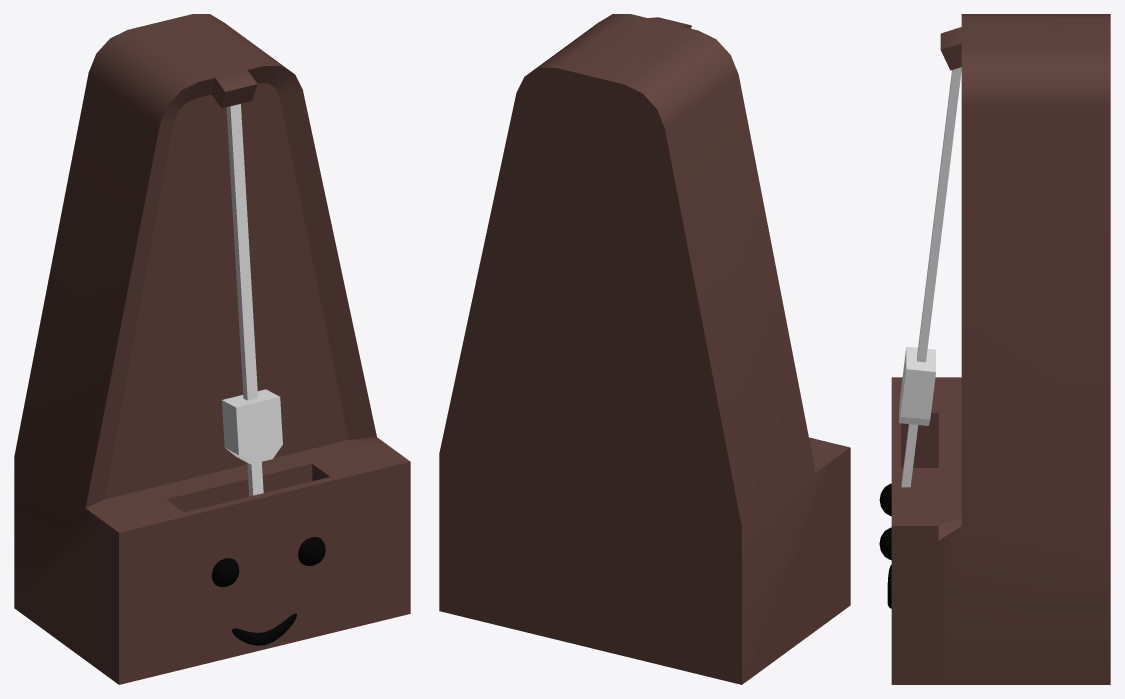
File: hurikohuriko.fbx
The picture shows the model from 3 angles, left to right: view 1: azimuth 30°, elevation 25°; view 2: azimuth 150°, elevation 25°; view 3: azimuth 270°, elevation 25°; orthographic projection. The views are drawn at different scales.
Parts seen in each view (by area): view 1: pasted__hidari_me, pasted__pCube6, pasted__pCube5; view 2: pasted__hidari_me; view 3: pasted__hidari_me, pasted__pCube6, pasted__pCube5.
Boxes of the visible parts, bbox=[...] form: pasted__hidari_me: bbox=[14, 14, 410, 684]; pasted__pCube6: bbox=[226, 104, 263, 496]; pasted__pCube5: bbox=[222, 389, 282, 464]; pasted__hidari_me: bbox=[439, 14, 850, 684]; pasted__hidari_me: bbox=[879, 14, 1110, 684]; pasted__pCube6: bbox=[901, 67, 961, 487]; pasted__pCube5: bbox=[899, 346, 935, 425].
Size of the model in its own units: 59.82 by 108 by 39.3.
